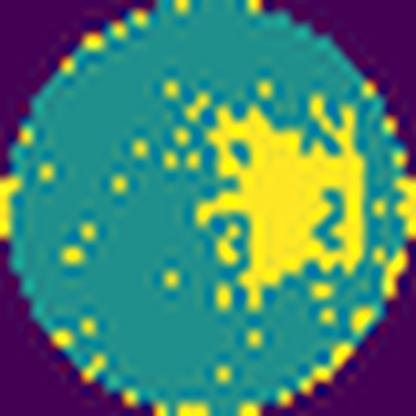Loc: (196, 89, 367, 310)
